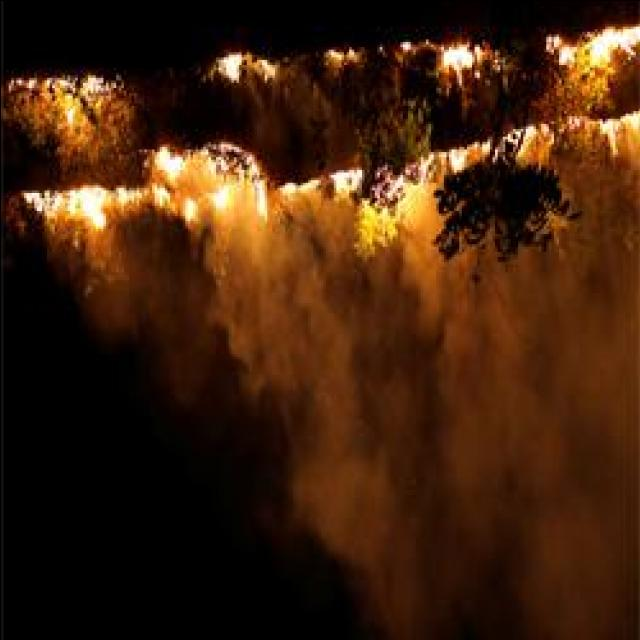fire: (17, 178, 122, 234), (544, 13, 640, 72), (180, 180, 273, 222), (325, 160, 427, 198), (574, 109, 640, 167)
smoke: (204, 214, 343, 384), (276, 390, 392, 574), (547, 230, 639, 448), (375, 244, 479, 391), (59, 229, 150, 323)
